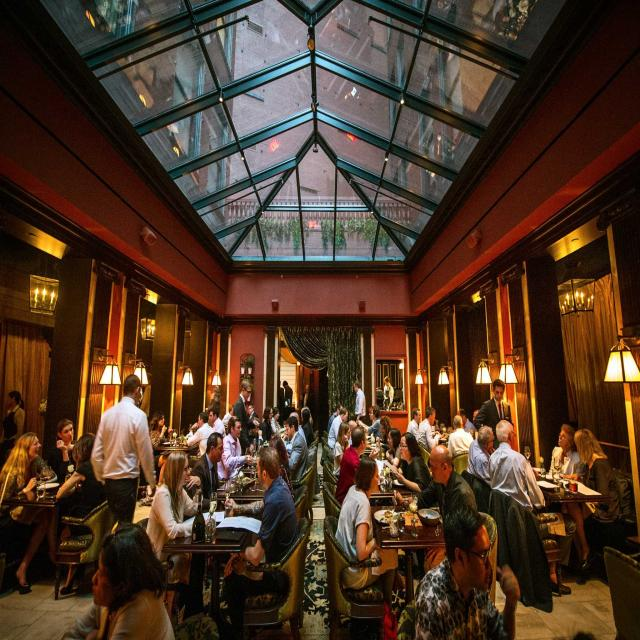person: (78, 527, 194, 640), (419, 527, 534, 640), (96, 350, 161, 522), (249, 445, 305, 577), (334, 468, 394, 571), (488, 419, 539, 524), (158, 445, 216, 536), (10, 428, 52, 544), (576, 422, 624, 520), (425, 447, 480, 524), (228, 371, 266, 458), (194, 422, 236, 499), (386, 426, 429, 492), (468, 417, 503, 484), (284, 410, 316, 473), (46, 408, 75, 474), (347, 417, 379, 476), (549, 422, 577, 488), (484, 376, 516, 420)
